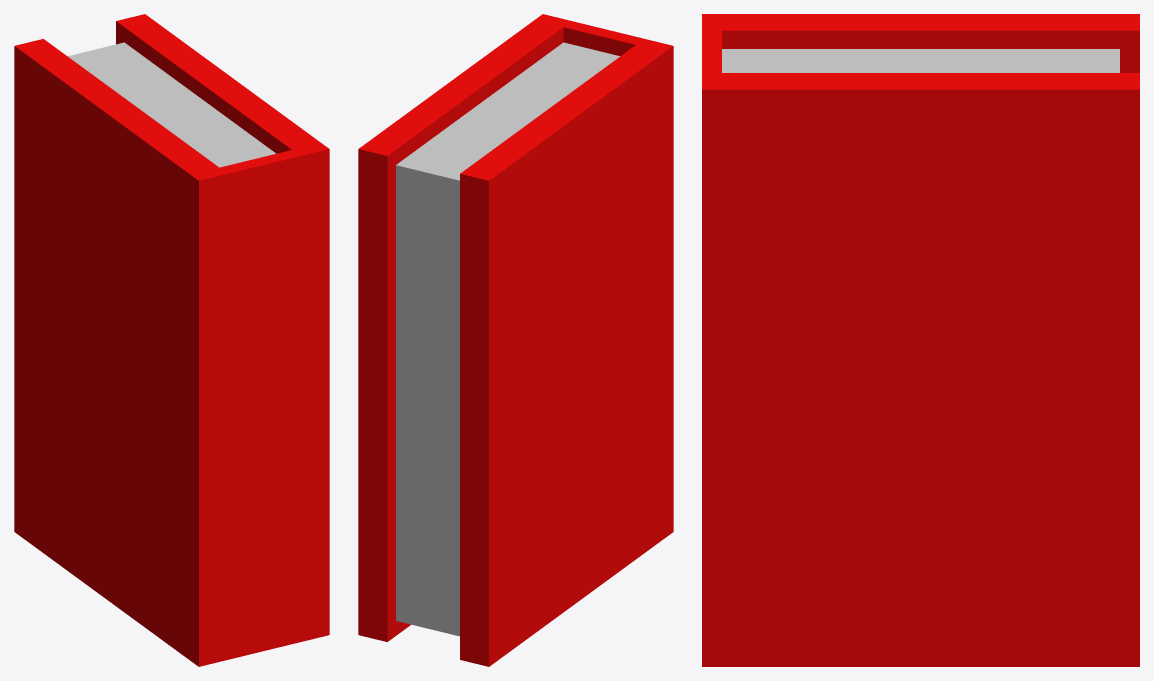
File: RedBook.fbx
3 renders of one model, left to right at view 1: azimuth 30°, elevation 25°; view 2: azimuth 150°, elevation 25°; view 3: azimuth 270°, elevation 25°, orthographic. The views are drawn at different scales.
Parts seen in each view (by area): view 1: RedBook; view 2: RedBook; view 3: RedBook.
Boxes of the visible parts, x1,y1,x2,y2 form: RedBook: [14, 14, 329, 666]; RedBook: [358, 14, 673, 666]; RedBook: [702, 14, 1139, 666].
Size of the model in its own units: 9 by 32 by 22.
Materials: 1 (1 with a texture image).
